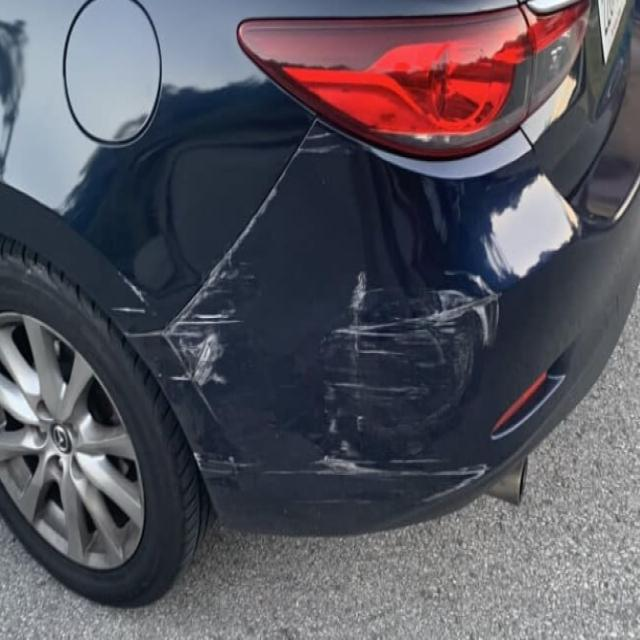scratch: (189, 267, 503, 509), (108, 132, 342, 391)
